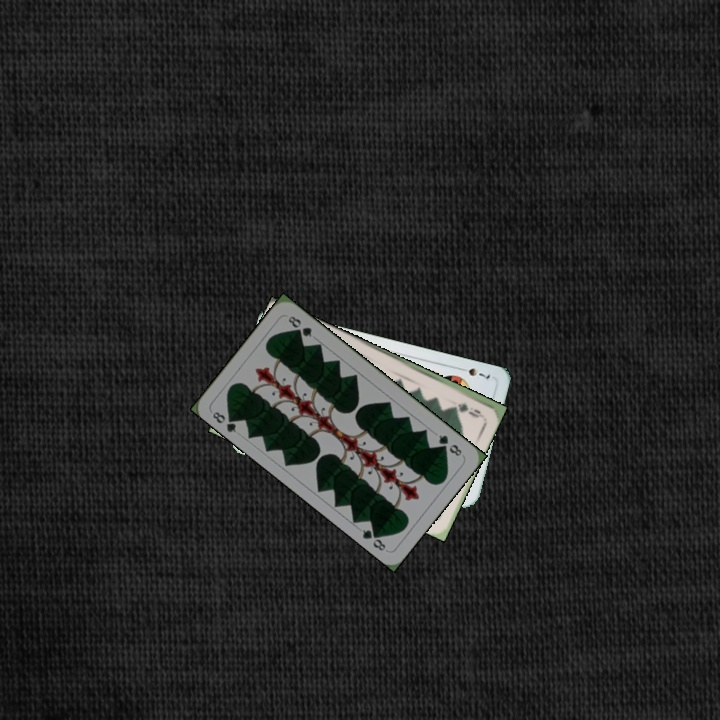G8: (434, 430, 465, 459), (208, 407, 240, 435)
G9: (453, 399, 485, 419)
S7: (455, 363, 493, 382)
